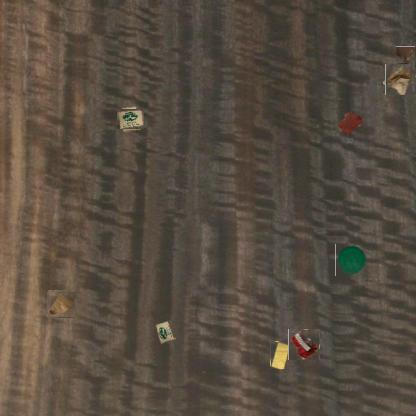dirty: (335, 244, 368, 276), (288, 329, 320, 360), (384, 65, 414, 94), (48, 290, 74, 318), (118, 107, 142, 131), (155, 320, 176, 344), (270, 341, 288, 369)
liquid: (336, 111, 362, 135), (396, 45, 416, 64)
